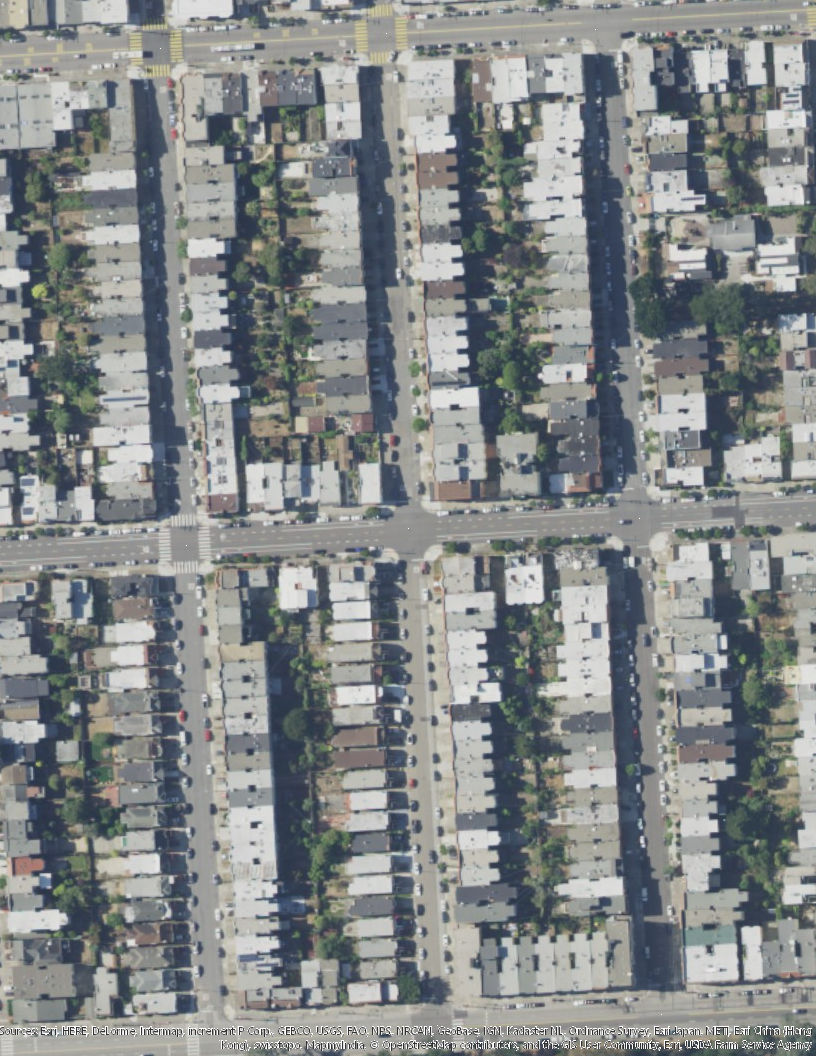zebracross: (167, 30, 185, 64), (156, 527, 172, 564), (197, 526, 213, 561), (354, 18, 369, 53), (128, 32, 144, 64), (394, 16, 409, 50), (140, 17, 168, 33), (367, 2, 395, 17), (145, 65, 170, 79), (174, 560, 197, 575), (171, 514, 197, 526), (369, 51, 394, 63), (186, 1036, 200, 1056)
